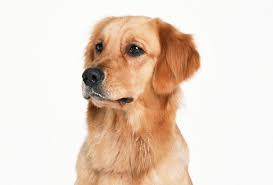dog: (83, 38, 149, 111)
